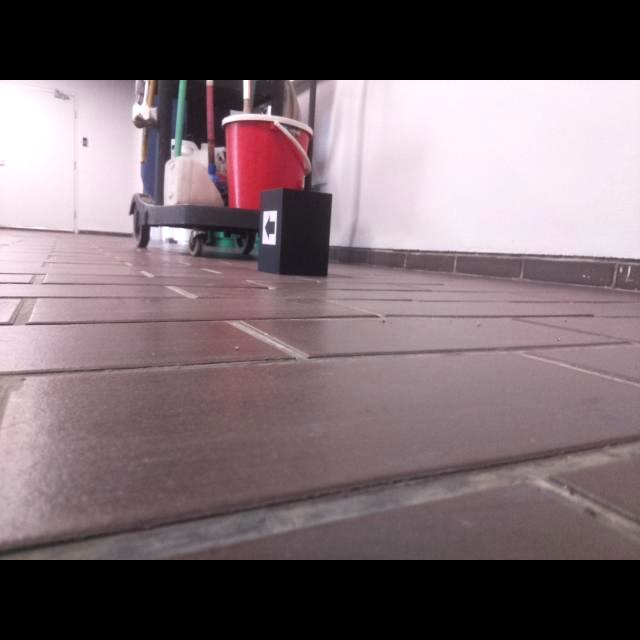LEFT: (264, 214, 275, 241)
